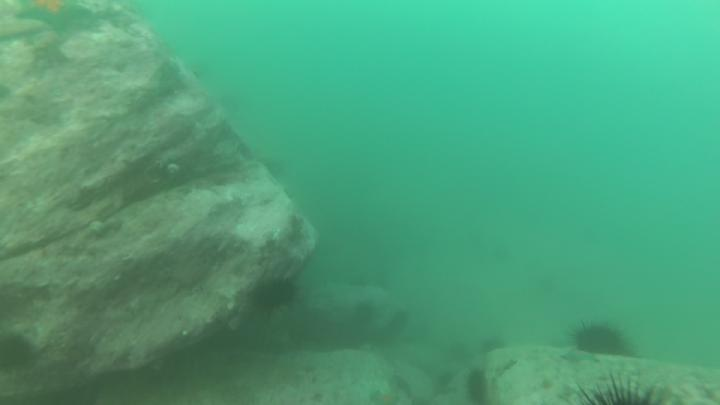echinus: (573, 375, 667, 405), (570, 318, 628, 357), (256, 274, 302, 315), (1, 332, 37, 379), (463, 369, 490, 405), (479, 334, 510, 359)
